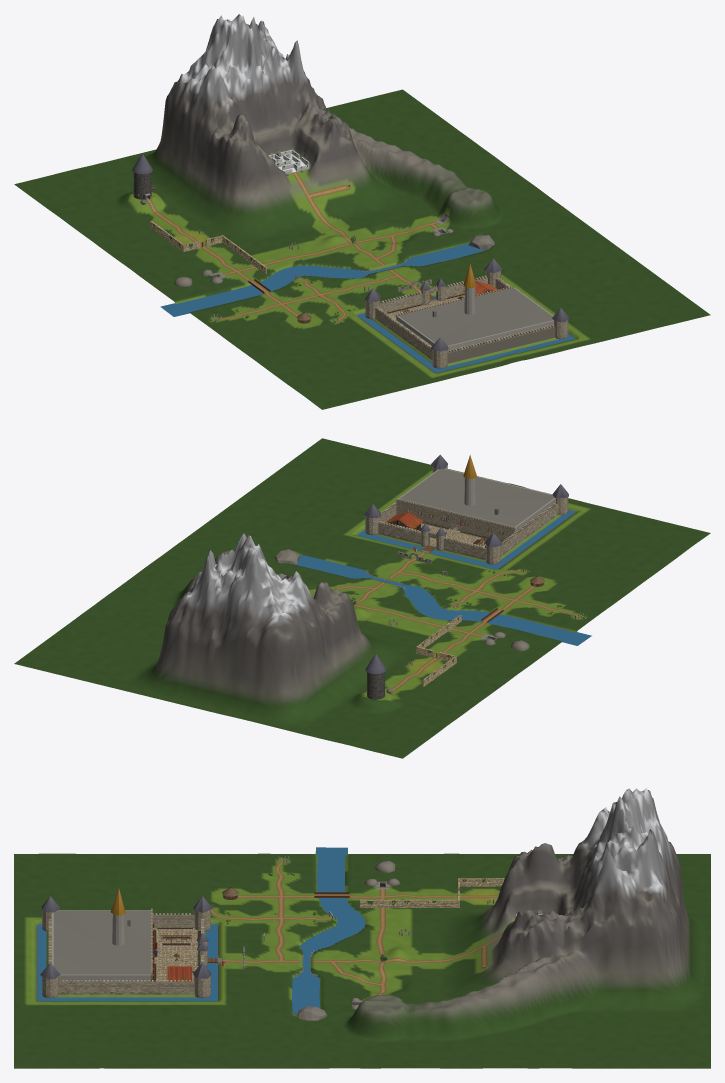
Rendered from land.glb.
3 views of the same model, one above another, from view 1: azimuth 30°, elevation 25°; view 2: azimuth 150°, elevation 25°; view 3: azimuth 270°, elevation 25° (orthographic). The views are drawn at different scales.
Parts seen in each view (by area): view 1: ground, built, water, paths, courtyard, old-stone-wall; view 2: ground, built, courtyard, water, paths, old-stone-wall; view 3: ground, built, courtyard, water, paths, old-stone-wall.
Boxes of the visible parts, box(x1,y1,x2,y2) form: ground: box(14, 14, 710, 409); built: box(132, 154, 569, 368); water: box(160, 243, 575, 373); paths: box(146, 171, 439, 322); courtyard: box(365, 270, 568, 367); old-stone-wall: box(150, 220, 267, 274); ground: box(14, 438, 710, 758); built: box(274, 454, 578, 699); courtyard: box(365, 466, 568, 563); water: box(293, 510, 591, 645); paths: box(312, 552, 580, 692); old-stone-wall: box(415, 615, 461, 686); ground: box(14, 787, 710, 1068); built: box(40, 859, 485, 1020); courtyard: box(42, 909, 210, 997); water: box(37, 847, 365, 1013); paths: box(211, 860, 502, 995); old-stone-wall: box(360, 878, 504, 908).
Bounding box in the file's own units: 311 × 140 × 412.
